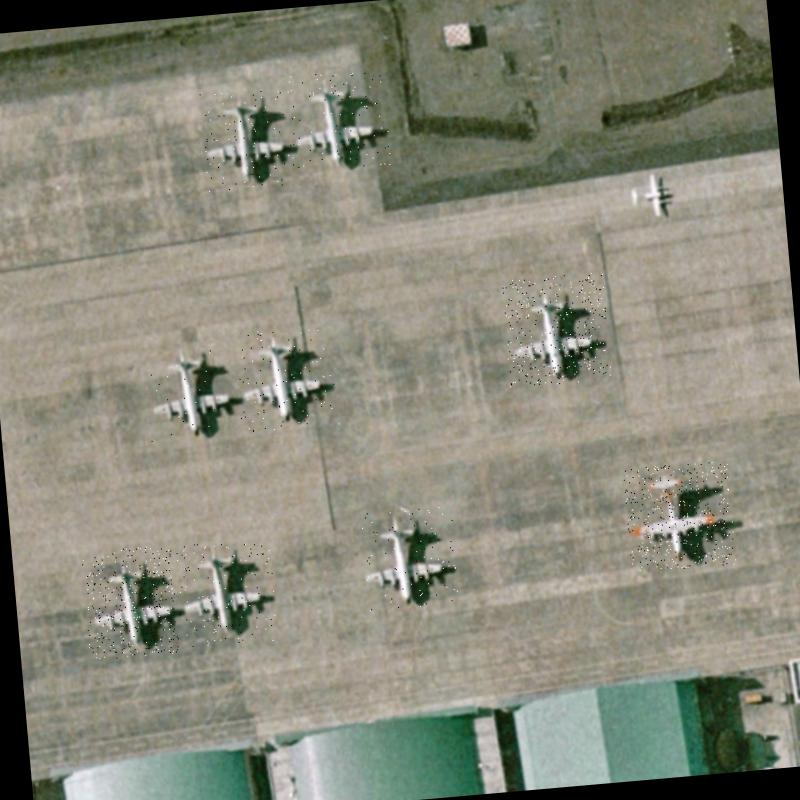A2: (622, 460, 736, 574)
A9: (500, 272, 612, 388), (174, 535, 278, 649), (234, 324, 340, 435), (81, 544, 180, 660), (286, 68, 392, 176), (357, 505, 462, 614), (138, 338, 242, 442), (200, 86, 300, 193)
